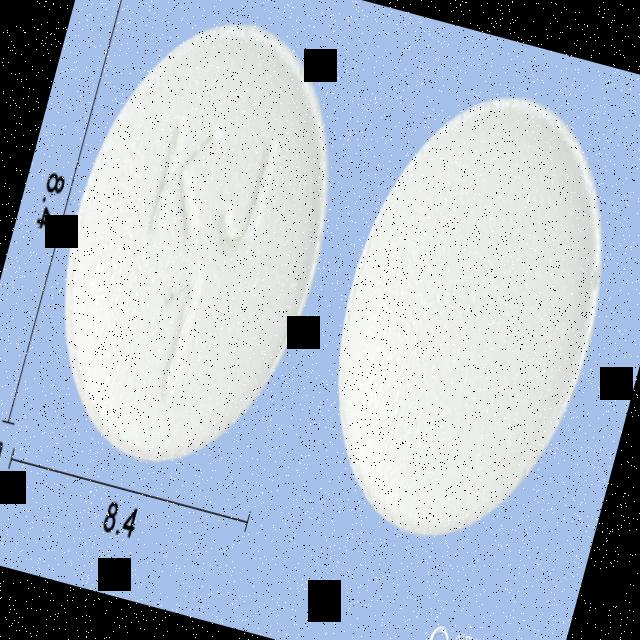Levocacin: (18, 0, 373, 491)
